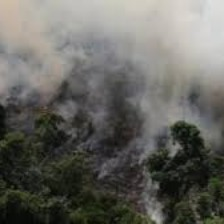incendio: (72, 85, 145, 200), (129, 112, 188, 218), (1, 41, 70, 128), (30, 59, 81, 140), (72, 47, 147, 95)
